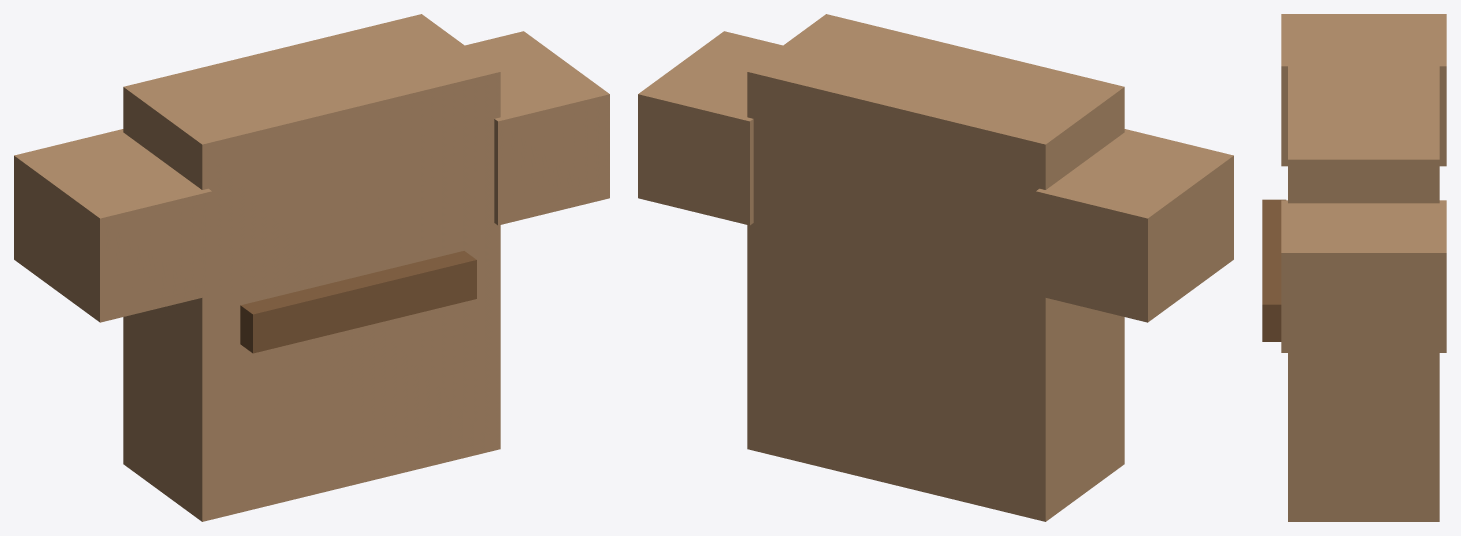
File: hideVest.glb
The picture shows the model from 3 angles, left to right: view 1: azimuth 30°, elevation 25°; view 2: azimuth 150°, elevation 25°; view 3: azimuth 270°, elevation 25°; orthographic projection. The views are drawn at different scales.
Visible parts, largest first — view 1: ArmorChest, ArmorLeftShoulder, ArmorRightShoulder, ArmorStrap; view 2: ArmorChest, ArmorLeftShoulder, ArmorRightShoulder; view 3: ArmorChest, ArmorRightShoulder, ArmorLeftShoulder, ArmorStrap.
Part boxes in pixels (<box>): ArmorChest: <box>123,14,500,521</box>; ArmorLeftShoulder: <box>14,129,211,322</box>; ArmorRightShoulder: <box>465,31,609,225</box>; ArmorStrap: <box>240,251,476,353</box>; ArmorChest: <box>747,14,1124,521</box>; ArmorLeftShoulder: <box>1036,129,1233,322</box>; ArmorRightShoulder: <box>638,31,782,225</box>; ArmorChest: <box>1288,19,1439,521</box>; ArmorRightShoulder: <box>1281,200,1446,352</box>; ArmorLeftShoulder: <box>1281,14,1446,166</box>; ArmorStrap: <box>1262,199,1285,341</box>.
Bounding box in the file's own units: 0.82 × 0.58 × 0.2675.
